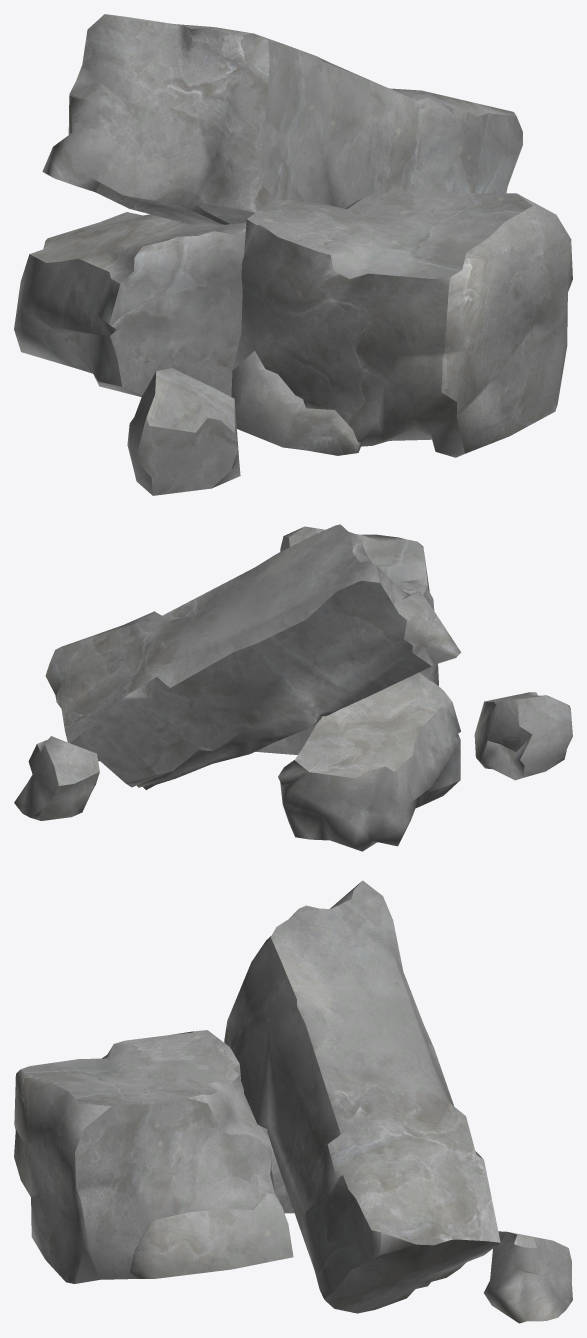
Rendered from SM_Com_Roc_49AS.fbx.
The picture shows the model from 3 angles, top to bottom: view 1: azimuth 30°, elevation 25°; view 2: azimuth 150°, elevation 25°; view 3: azimuth 270°, elevation 25°; orthographic projection. The views are drawn at different scales.
Visible parts, largest first — view 1: SM_Com_Roc_49AS.mo; view 2: SM_Com_Roc_49AS.mo; view 3: SM_Com_Roc_49AS.mo.
Boxes of the visible parts, box(x1,y1,x2,y2) form: SM_Com_Roc_49AS.mo: box(14, 14, 572, 495); SM_Com_Roc_49AS.mo: box(14, 524, 572, 851); SM_Com_Roc_49AS.mo: box(14, 880, 572, 1323).
Bounding box in the file's own units: 5.89 × 3.66 × 6.14.
